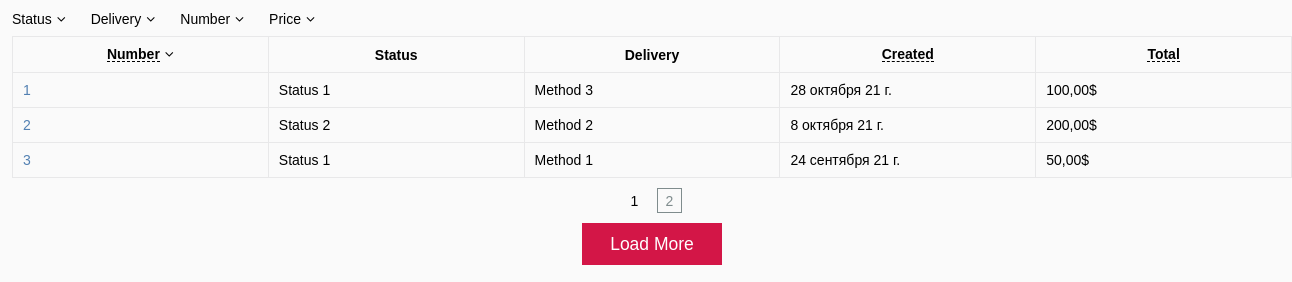
Test: user orders › pagination
The width and height of the screenshot is (1292, 282).
Expected: the button "1" is disabled, [622,188,647,213]
Click the button "2" at (670, 200), box [657,188,682,213]
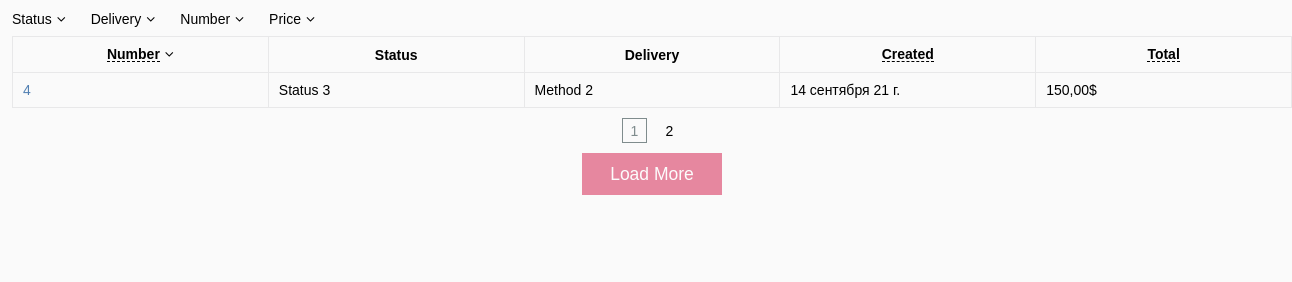
Expected: the button "1" is enabled, [622,118,647,143]
Expected: the button "2" is disabled, [657,118,682,143]
Expected: the cell "4" is shown, [12,72,268,108]
